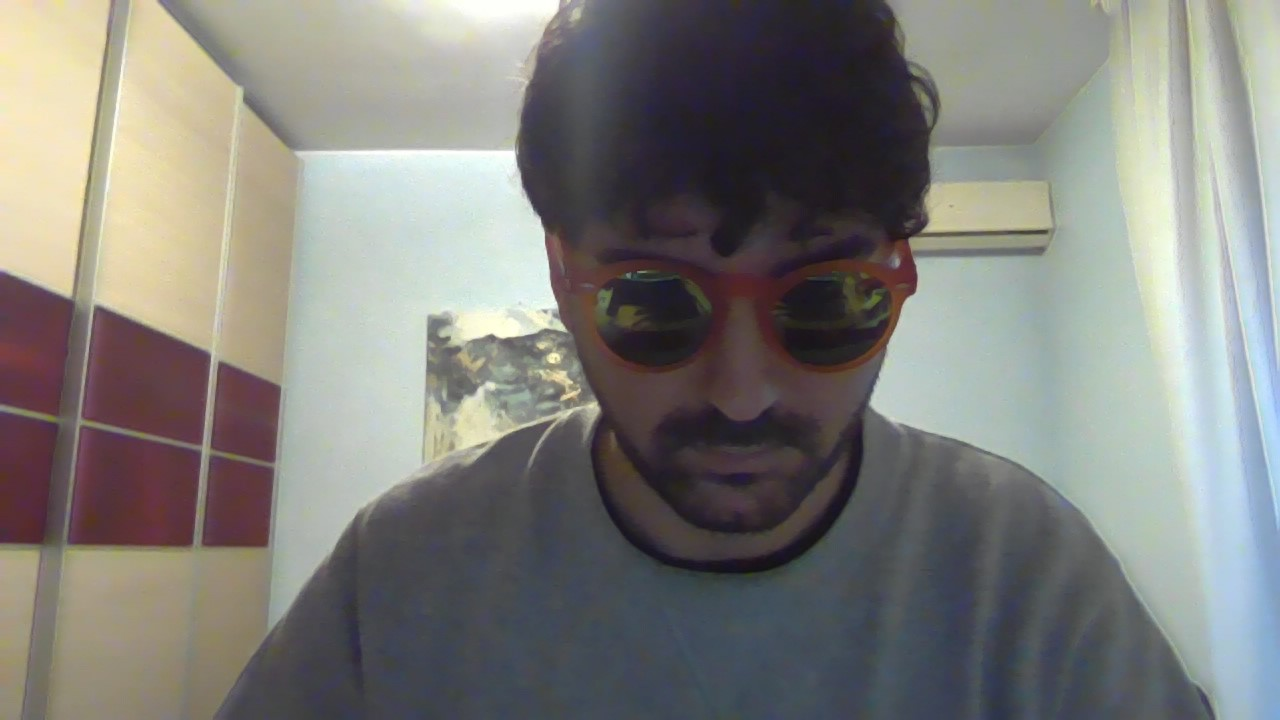Glasses: (537, 233, 927, 377)
